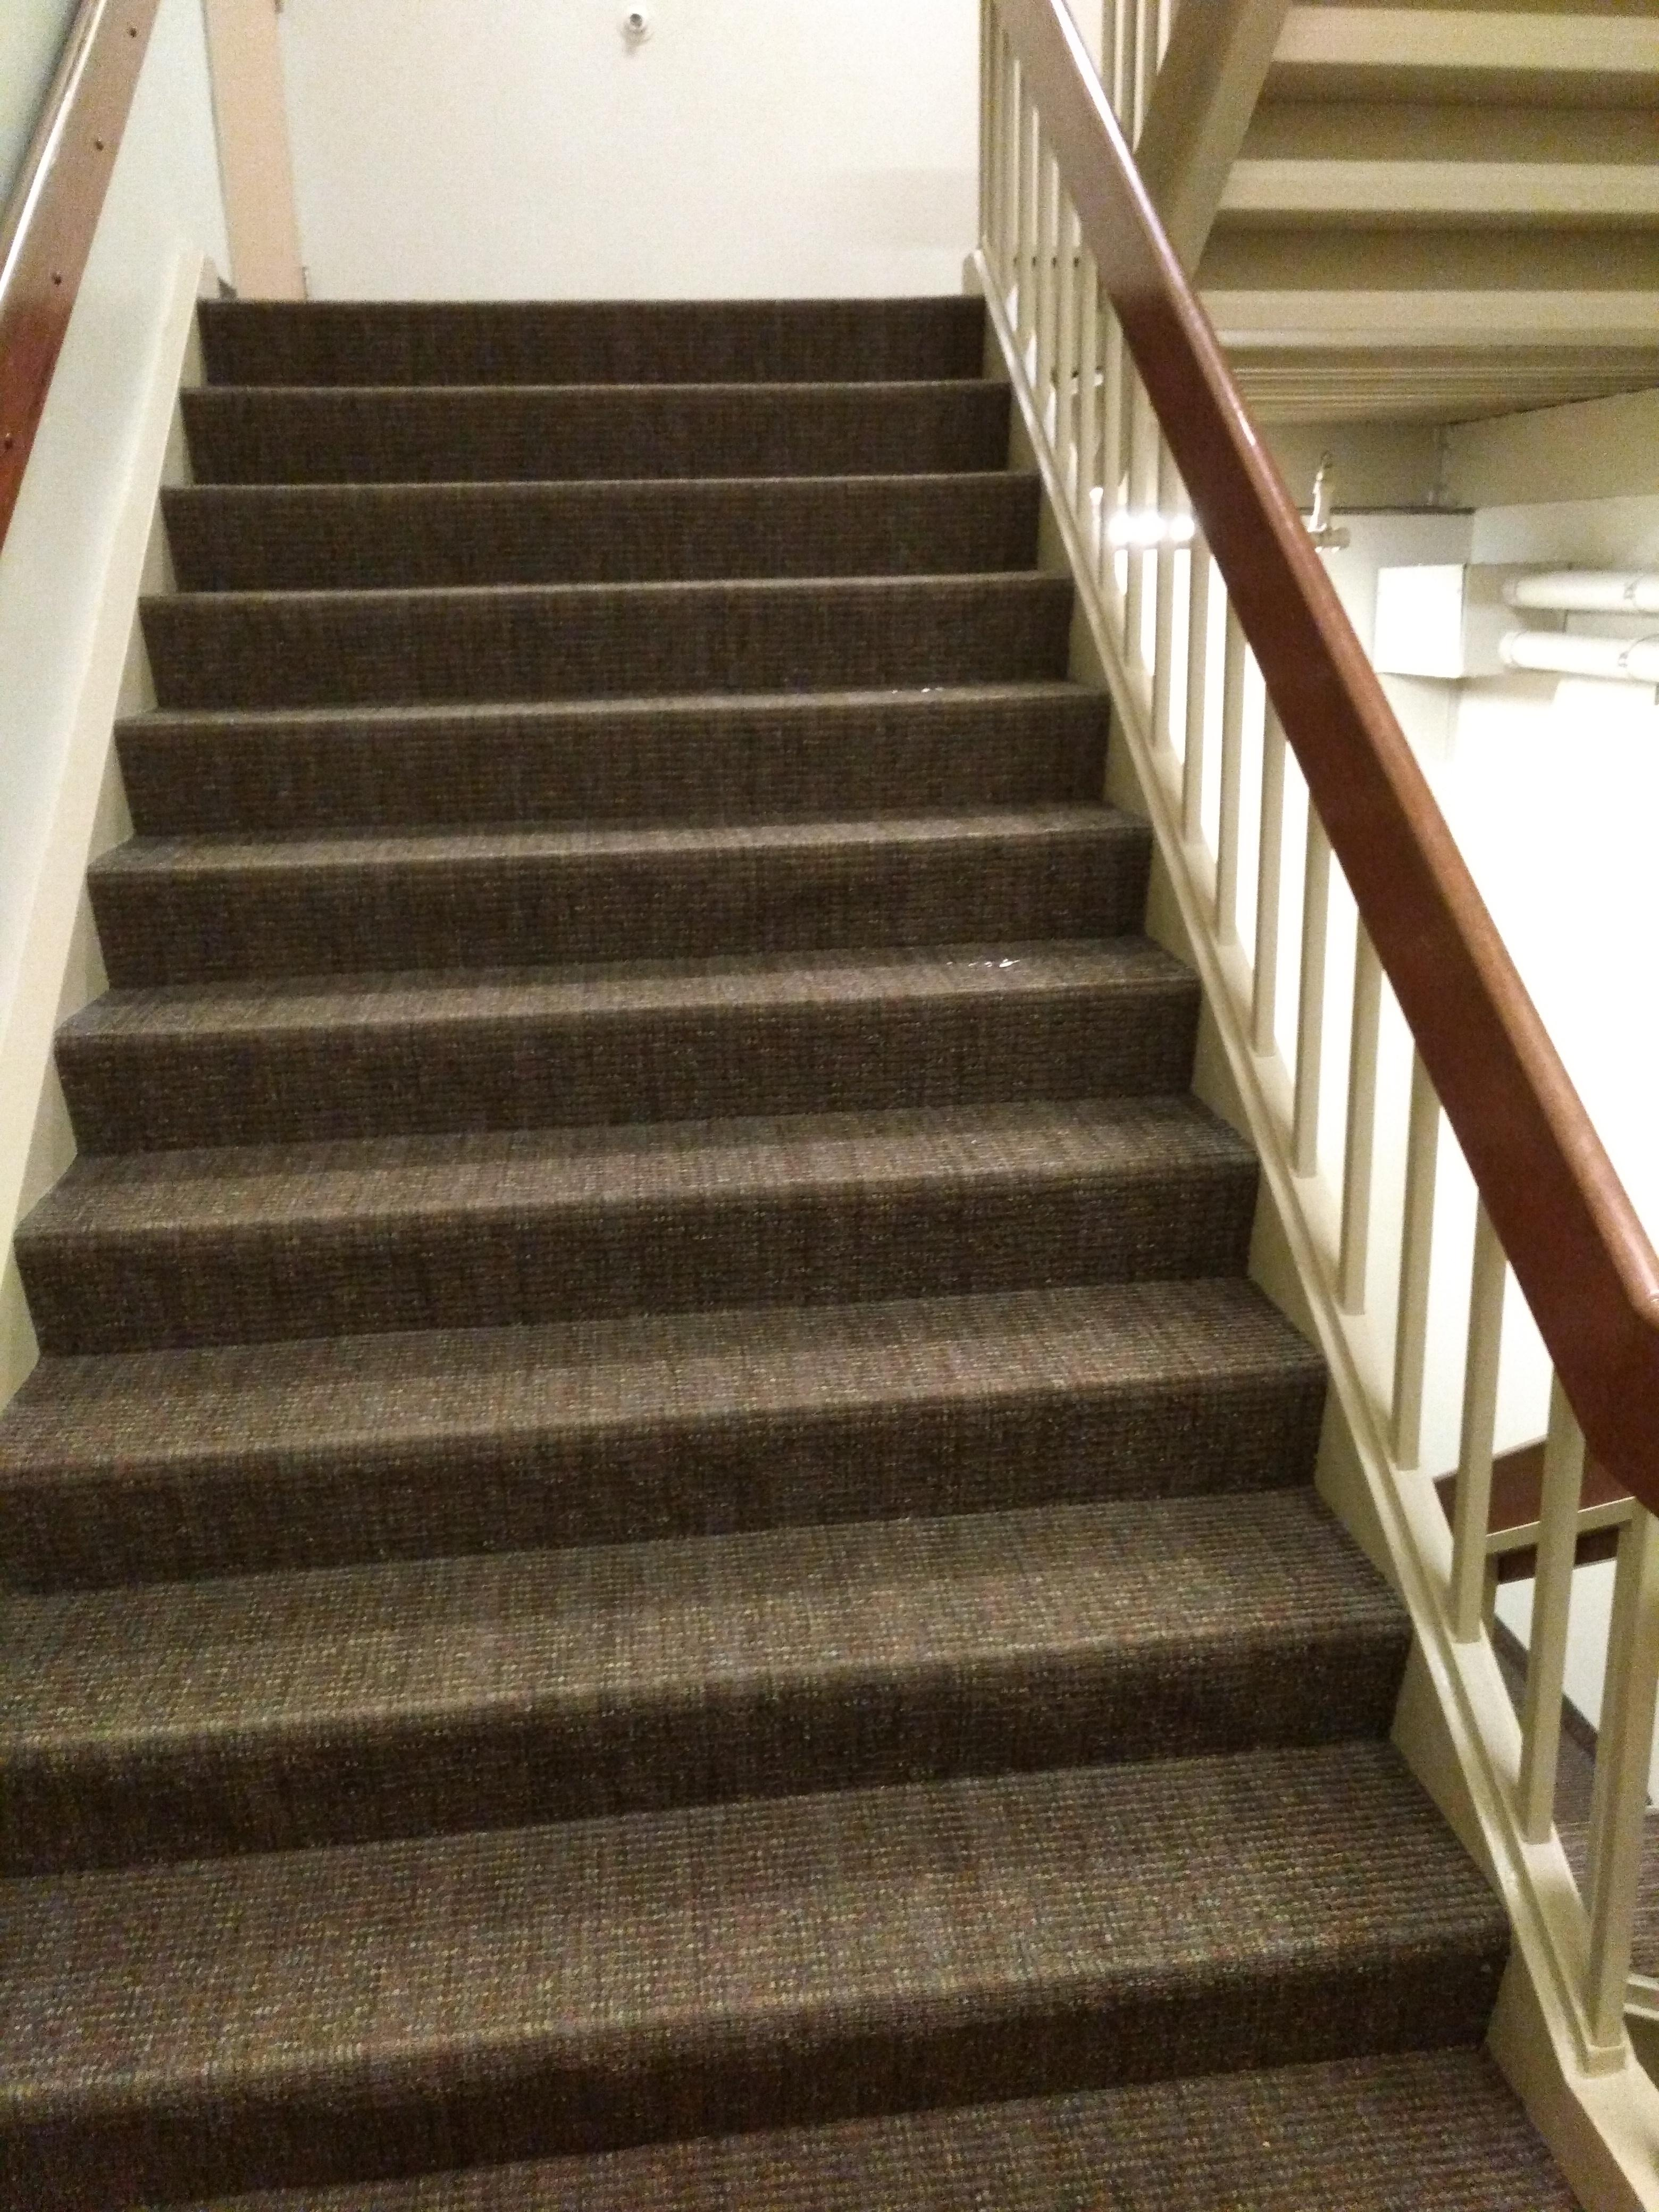stairs_up: (5, 275, 1549, 2149)
